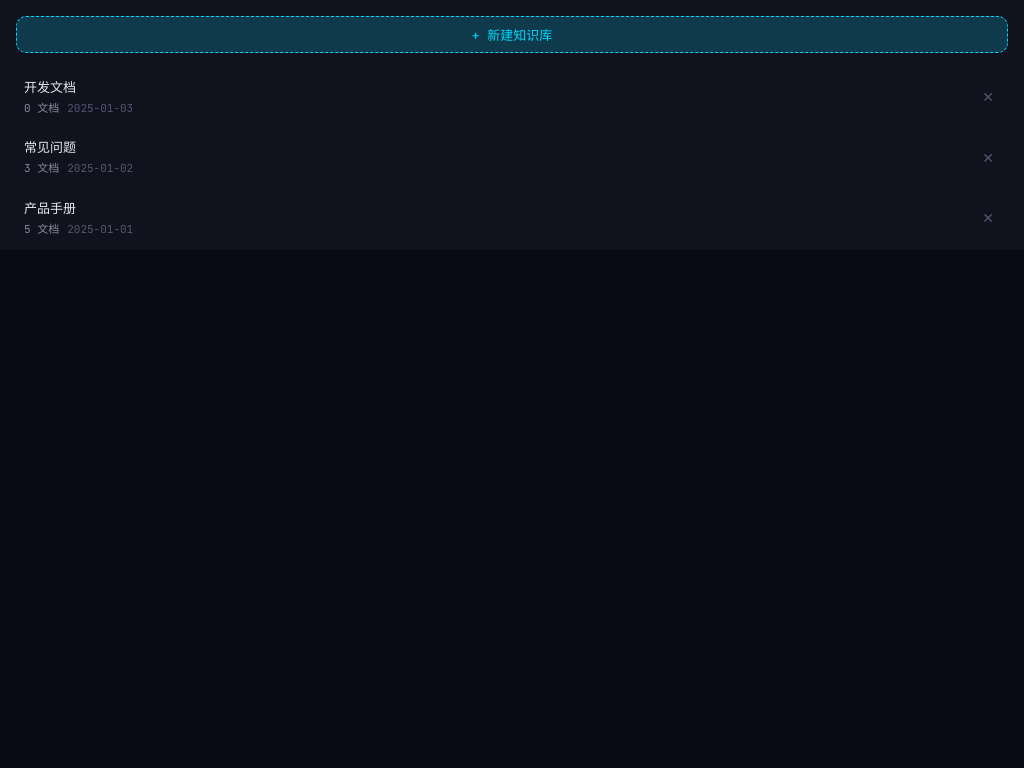
Test: KnowledgeBaseList › 点击删除按钮弹出确认框，显示级联删除数量（AC-006）
# 点击第一项的删除按钮（开发文档，0 个文档）
Click the button with class "btn-delete" in the row of "2025-01-03": click(988, 97) [976,87,1000,107]
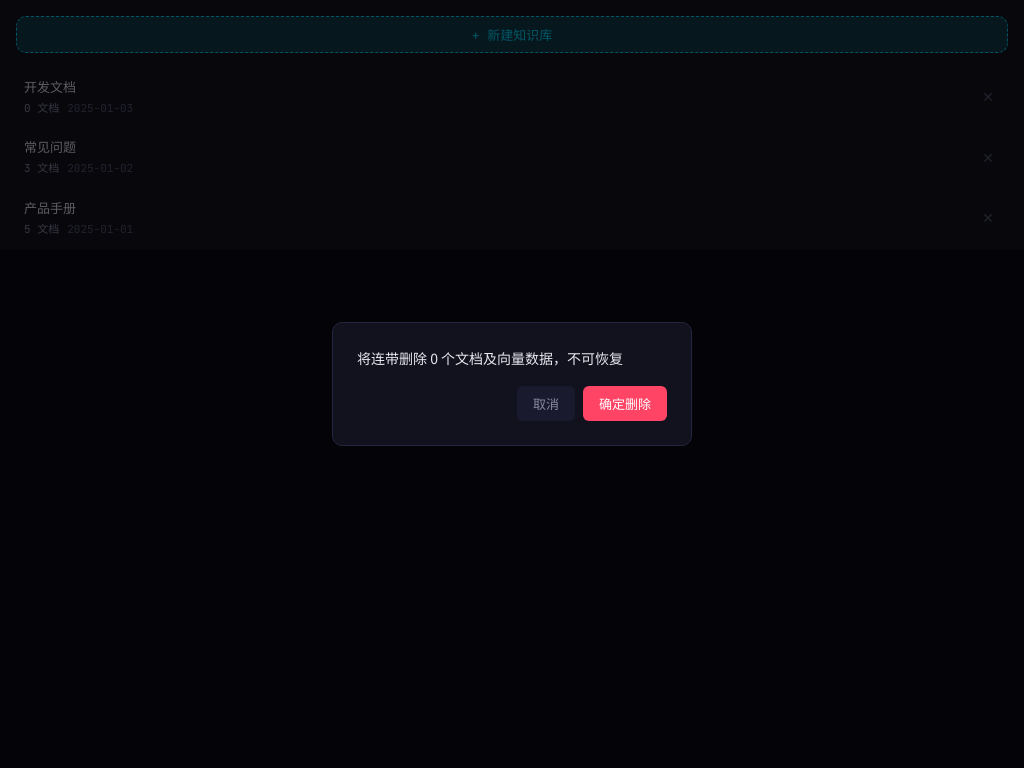
Result: the element with class "confirm-dialog" is shown at [332,322,692,446]
Result: the element with class "confirm-dialog" shows "0" at [357,348,623,368]
Result: the element with class "confirm-dialog" shows "不可恢复" at [357,348,623,368]
